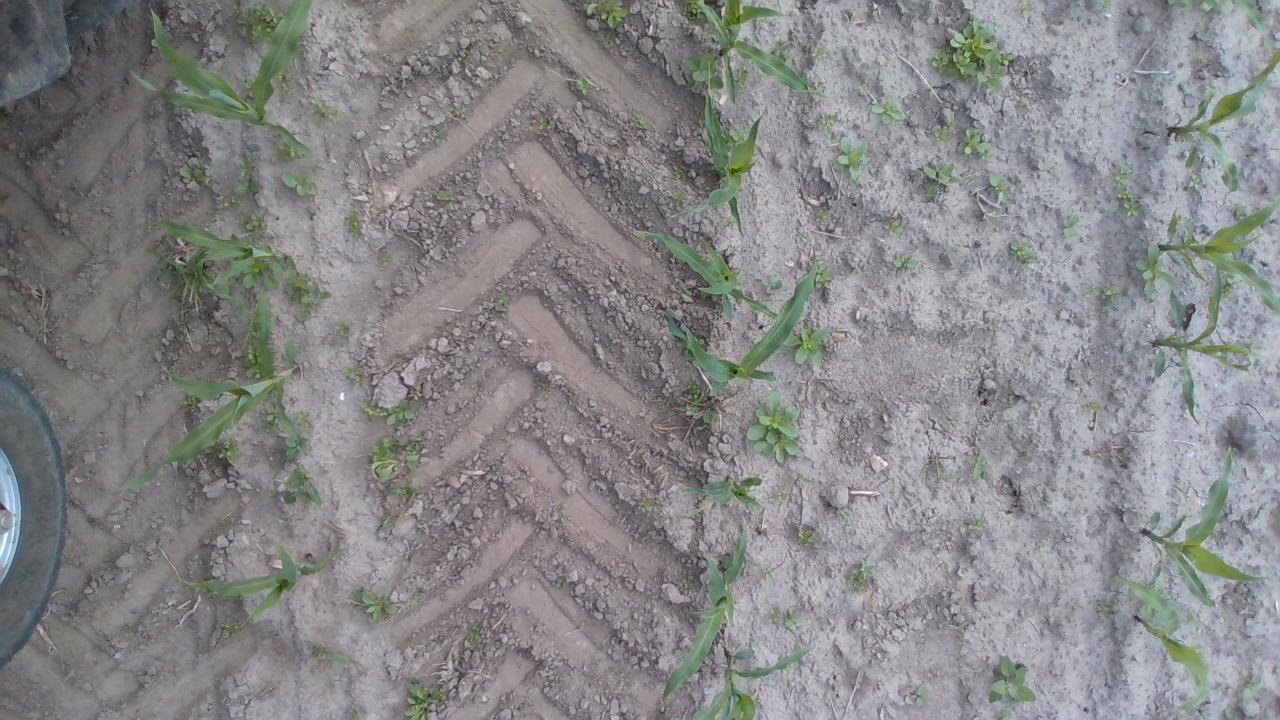Maize: (99, 362, 303, 507), (128, 1, 314, 158), (1135, 446, 1275, 611), (658, 261, 822, 392), (1165, 38, 1280, 200), (1150, 198, 1278, 340), (650, 532, 755, 698), (158, 219, 334, 316), (675, 2, 829, 105), (634, 226, 784, 330), (168, 546, 352, 630), (1152, 292, 1267, 424), (687, 101, 772, 243), (1127, 617, 1221, 711), (686, 646, 808, 718)
Weeds: (932, 20, 1012, 100), (749, 391, 807, 463), (980, 650, 1040, 714), (368, 436, 423, 480), (224, 2, 284, 42), (679, 385, 726, 436), (1132, 242, 1172, 298), (831, 136, 876, 184), (300, 636, 354, 676), (398, 678, 449, 720), (354, 587, 406, 627), (787, 324, 830, 372), (274, 470, 327, 507), (362, 397, 418, 430), (918, 159, 959, 203), (586, 2, 634, 34), (1114, 159, 1137, 222), (1088, 280, 1130, 314), (861, 100, 911, 127), (1005, 232, 1040, 268), (294, 280, 329, 316), (308, 98, 348, 128), (983, 174, 1015, 207), (175, 160, 209, 190), (759, 612, 809, 632), (758, 268, 782, 308), (282, 172, 318, 198), (960, 126, 989, 158), (927, 116, 957, 146), (234, 167, 262, 199), (969, 448, 994, 482), (246, 206, 270, 241), (338, 364, 370, 389), (878, 216, 912, 238), (806, 262, 830, 293), (1058, 212, 1086, 238), (334, 319, 360, 346), (342, 209, 362, 243), (854, 563, 880, 589), (262, 402, 282, 435), (296, 410, 324, 433), (1179, 167, 1200, 196), (636, 494, 662, 516), (792, 526, 819, 546), (906, 684, 932, 704), (834, 512, 861, 530), (632, 114, 652, 138), (552, 576, 574, 597), (760, 564, 776, 592), (534, 377, 558, 395), (468, 625, 490, 644), (894, 255, 918, 272), (820, 113, 839, 134), (485, 459, 506, 478), (217, 440, 237, 459), (553, 507, 573, 526), (965, 520, 989, 535), (440, 192, 461, 209), (428, 131, 448, 148), (450, 110, 471, 126), (538, 122, 560, 136), (575, 78, 590, 98), (496, 296, 511, 312), (380, 255, 394, 272)
